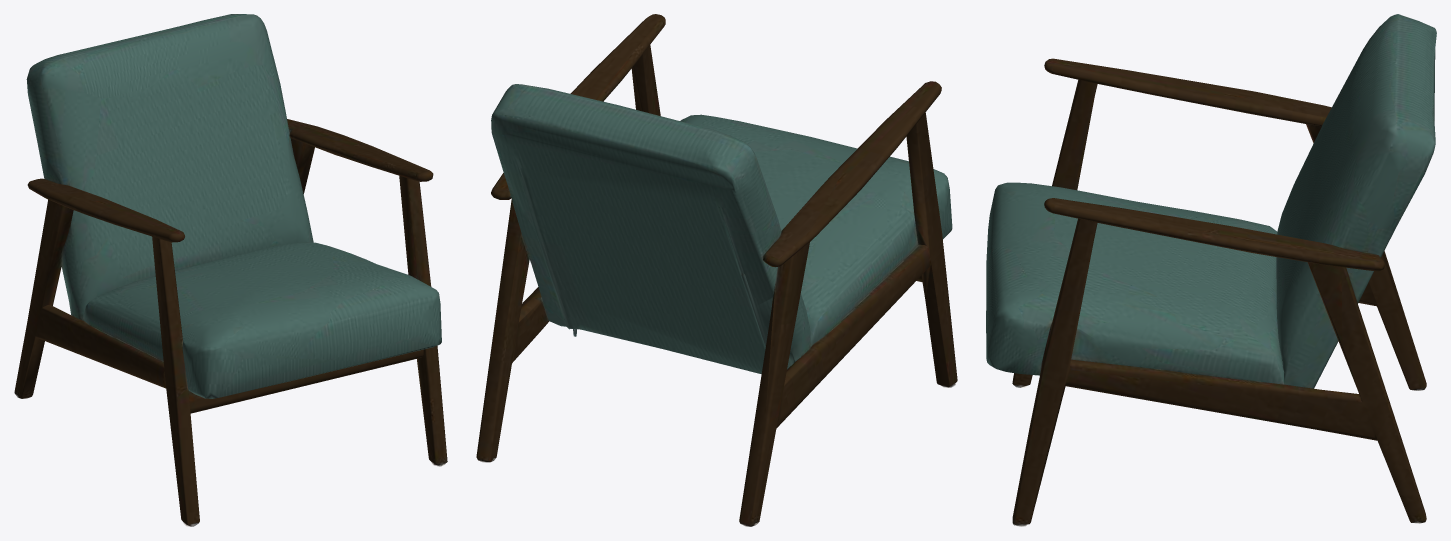
File: 07 - EKENÄSET Armchair - Kelinge grey-turquoise.glb
3 views of the same model, side by side, from view 1: azimuth 30°, elevation 25°; view 2: azimuth 150°, elevation 25°; view 3: azimuth 270°, elevation 25° (orthographic). The views are drawn at different scales.
Visible parts, largest first — view 1: model; view 2: model; view 3: model.
Part boxes in pixels (x1=…): model: x1=14, y1=14, x2=447, y2=526; model: x1=476, y1=14, x2=957, y2=526; model: x1=986, y1=14, x2=1436, y2=526.
Bounding box in the file's own units: 0.6485 × 0.7549 × 0.7954.
1 material, 1 textured.
